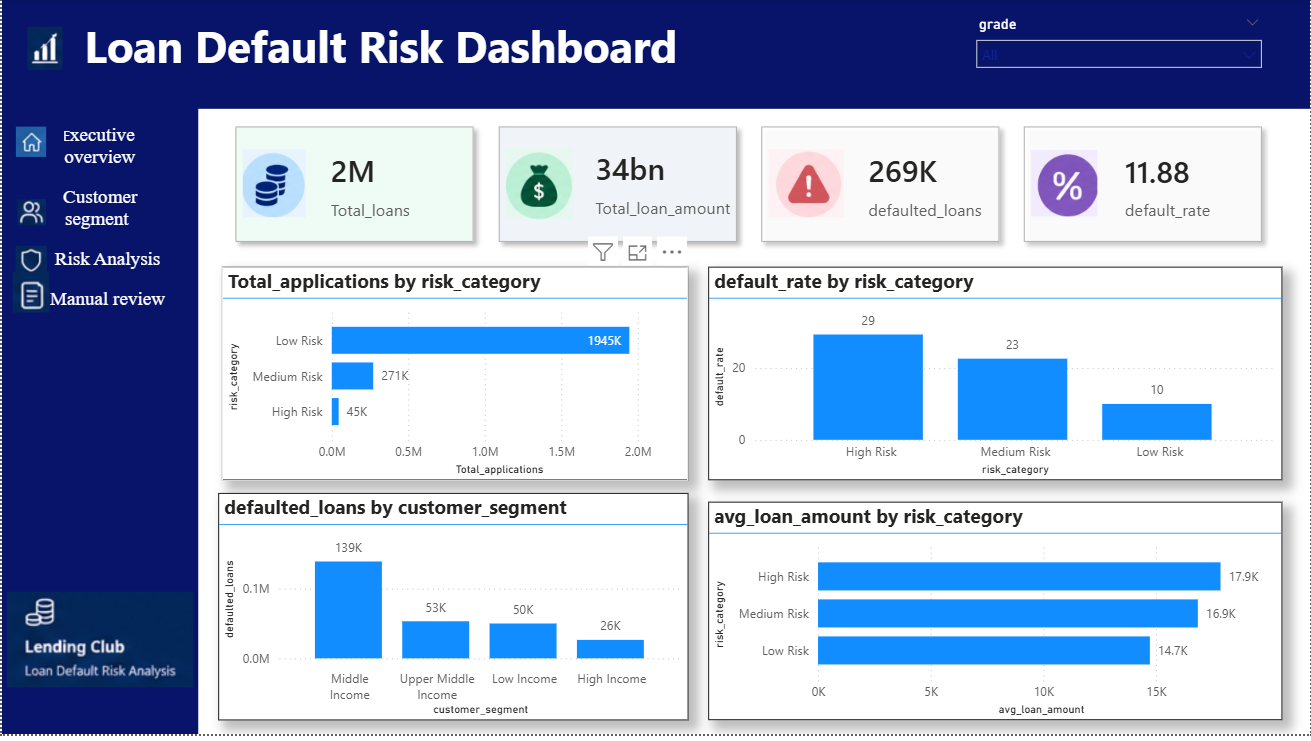

The dashboard page shown, as its layout file describes it:
{"tool":"powerbi","page":{"name":"Page 1","canvas":[1280,720],"ordinal":0},"visuals":[{"type":"cardVisual","fields":{"Data":["Sum(kpis.total_loans)","Sum(kpis.total_loan_amount)","Sum(kpis.defaulted_loans)","Sum(kpis.default_rate)"]},"box":[211.6,108.8,1040.6,148],"z":0},{"type":"clusteredColumnChart","fields":{"Category":["risk_analysis.risk_category"],"Y":["Sum(risk_analysis.default_rate)"]},"box":[690.9,262.9,561.3,209.1],"z":1000},{"type":"barChart","fields":{"Category":["risk_analysis.risk_category"],"Y":["Sum(risk_analysis.total_applications)"]},"box":[215.2,262.9,456.1,209.1],"z":2000},{"type":"clusteredColumnChart","fields":{"Category":["seg_loa_defa_rate.customer_segment"],"Y":["Sum(seg_loa_defa_rate.defaulted_loans)"]},"box":[211.6,484.2,459.8,222.6],"z":3000},{"type":"clusteredBarChart","fields":{"Category":["risk_analysis.risk_category"],"Y":["Avg(risk_analysis.avg_loan_amount)"]},"box":[690.9,492.8,561.3,214],"z":4000},{"type":"shape","box":[0,0,192,720.2],"z":5000},{"type":"shape","box":[0,0,1280.3,108.4],"z":6000},{"type":"textbox","box":[31.8,12.2,788.7,85.6],"z":7000},{"type":"textbox","box":[0,100.3,165.1,584.5],"z":8000},{"type":"image","box":[0,23.2,84.4,52.6],"z":9000},{"type":"image","box":[0,121.1,57.5,39.1],"z":10000},{"type":"image","box":[6.1,192,45.2,35.5],"z":11000},{"type":"image","box":[8.6,236,40.4,40.4],"z":12000},{"type":"image","box":[0,262.9,57.5,50.1],"z":13000},{"type":"image","box":[0,534.4,192,185.9],"z":14000},{"type":"slicer","fields":{"Values":["grade_analysis.grade"]},"box":[942.8,12.2,299.6,83.2],"z":15000}]}

Visuals, with their boxes on the page's 1280x720 design canvas (x1, y1, x2, y2). These are canvas units, not pixel positions in the 1311x741 screenshot, which may show the page scaled, cropped or inside an application window:
cardVisual - Sum(kpis.total_loans) x Sum(kpis.total_loan_amount): <box>212,109,1252,257</box>
clusteredColumnChart - risk_analysis.risk_category x Sum(risk_analysis.default_rate): <box>691,263,1252,472</box>
barChart - risk_analysis.risk_category x Sum(risk_analysis.total_applications): <box>215,263,671,472</box>
clusteredColumnChart - seg_loa_defa_rate.customer_segment x Sum(seg_loa_defa_rate.defaulted_loans): <box>212,484,671,707</box>
clusteredBarChart - risk_analysis.risk_category x Avg(risk_analysis.avg_loan_amount): <box>691,493,1252,707</box>
shape: <box>0,0,192,720</box>
shape: <box>0,0,1280,108</box>
textbox: <box>32,12,820,98</box>
textbox: <box>0,100,165,685</box>
image: <box>0,23,84,76</box>
image: <box>0,121,58,160</box>
image: <box>6,192,51,228</box>
image: <box>9,236,49,276</box>
image: <box>0,263,58,313</box>
image: <box>0,534,192,720</box>
slicer - grade_analysis.grade: <box>943,12,1242,95</box>
